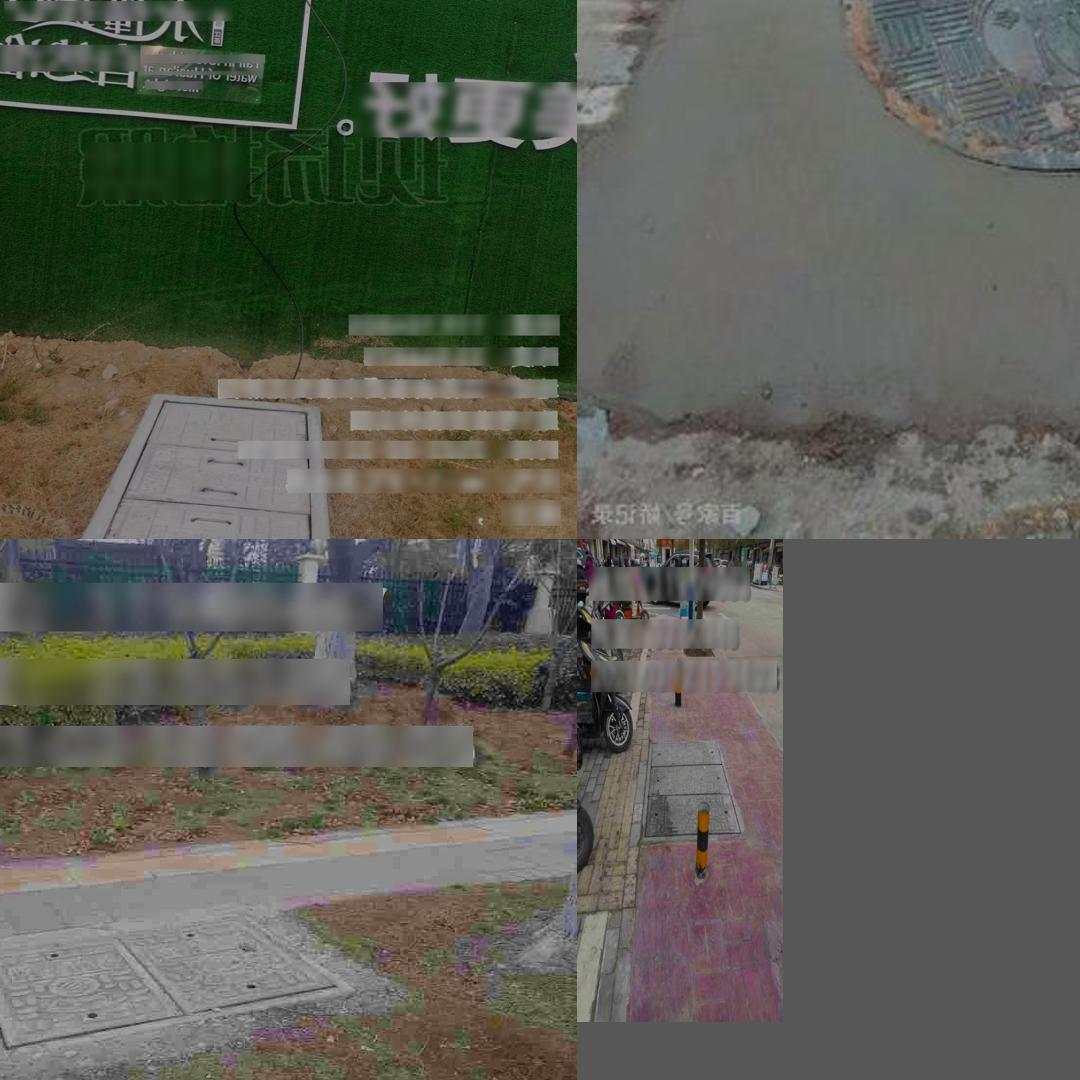good: (609, 0, 1080, 461), (0, 910, 358, 1059), (82, 391, 333, 539), (642, 733, 740, 834)
